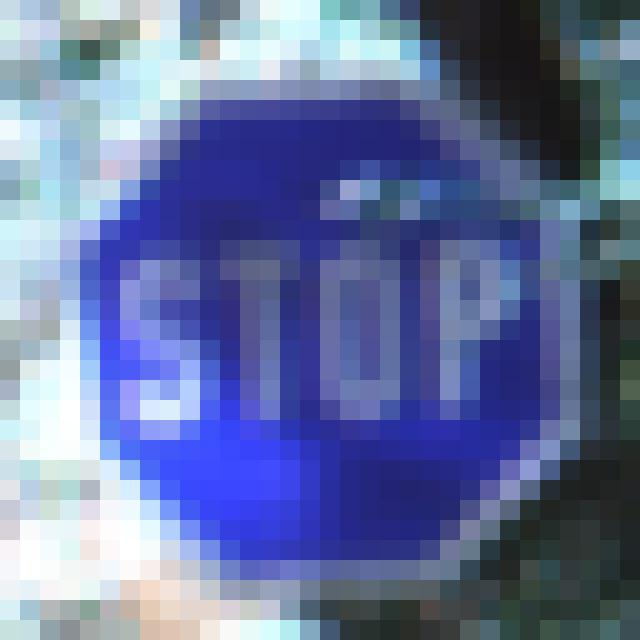STOP: (52, 76, 602, 582)
